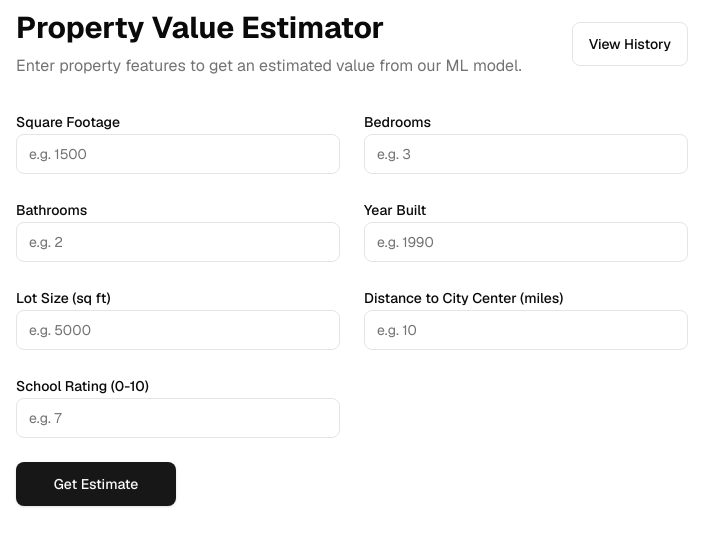
Scenario: PropertyForm (EstimatorPage) › shows inline error for out-of-range value on blur
The image size is (705, 552).
Step 1. Type "15" into the number field labelled "Bedrooms" → (526,154), box [364,134,688,174]
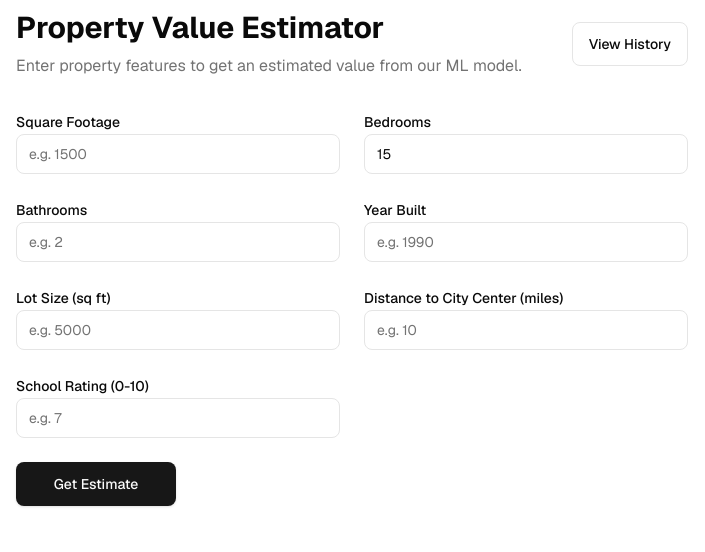
Step 2. Leave the number field labelled "Bedrooms", box [364,134,688,174]
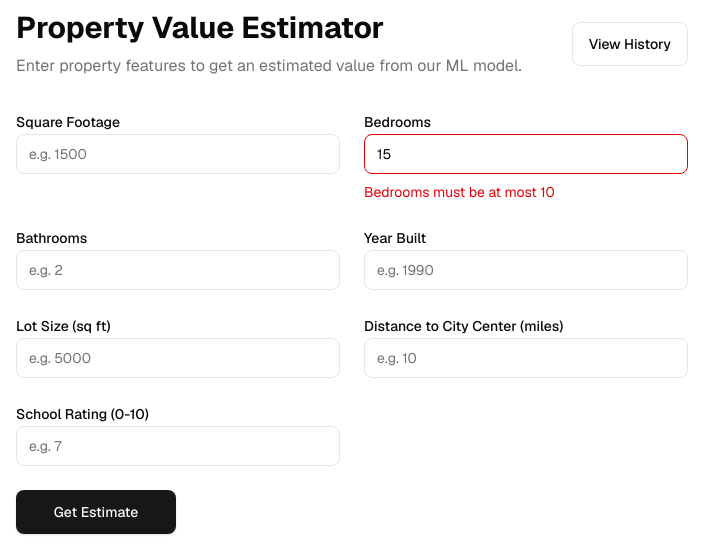
Expected: the text "Bedrooms must be at most 10" is shown, [364,183,555,201]
